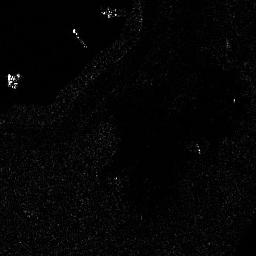ship: (70, 28, 89, 51)
